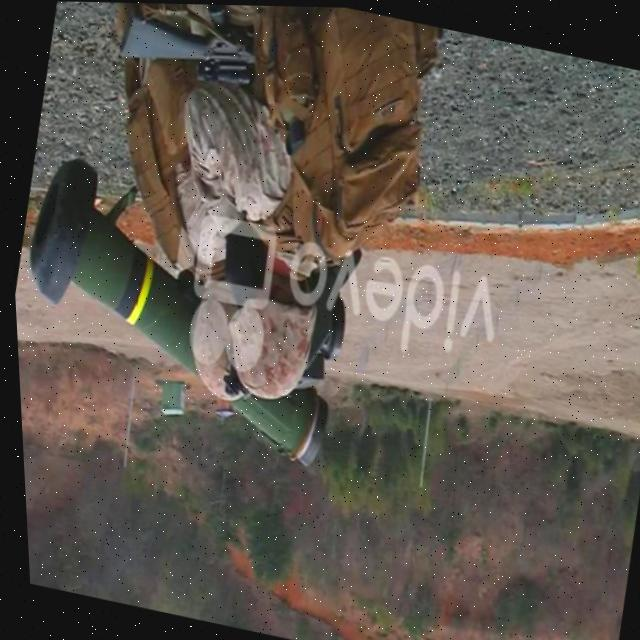rocket: (6, 147, 357, 474)
